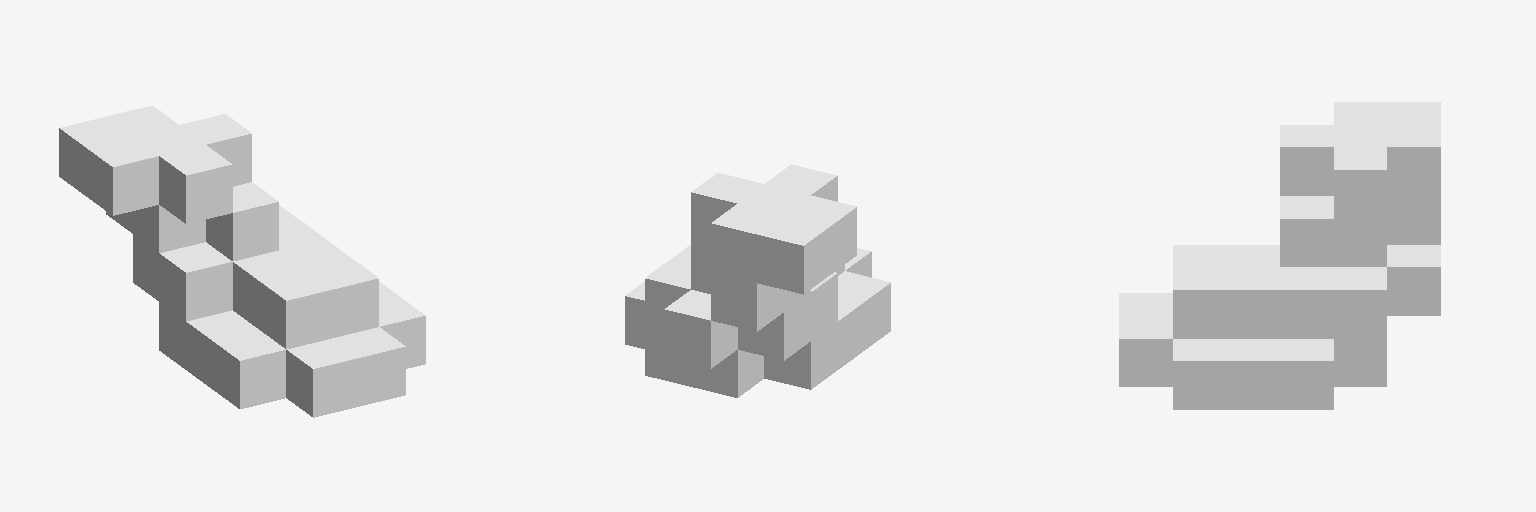
Rendered from knight-3.obj.
3 views of the same model, side by side, from view 1: azimuth 30°, elevation 25°; view 2: azimuth 150°, elevation 25°; view 3: azimuth 270°, elevation 25° (orthographic).
Parts seen in each view (by area): view 1: object 1; view 2: object 1; view 3: object 1.
Boxes of the visible parts, x1,y1,x2,y2 form: object 1: [59, 106, 425, 417]; object 1: [625, 164, 890, 397]; object 1: [1119, 102, 1440, 409].
Size of the model in its own units: 0.5 by 0.4 by 0.6.